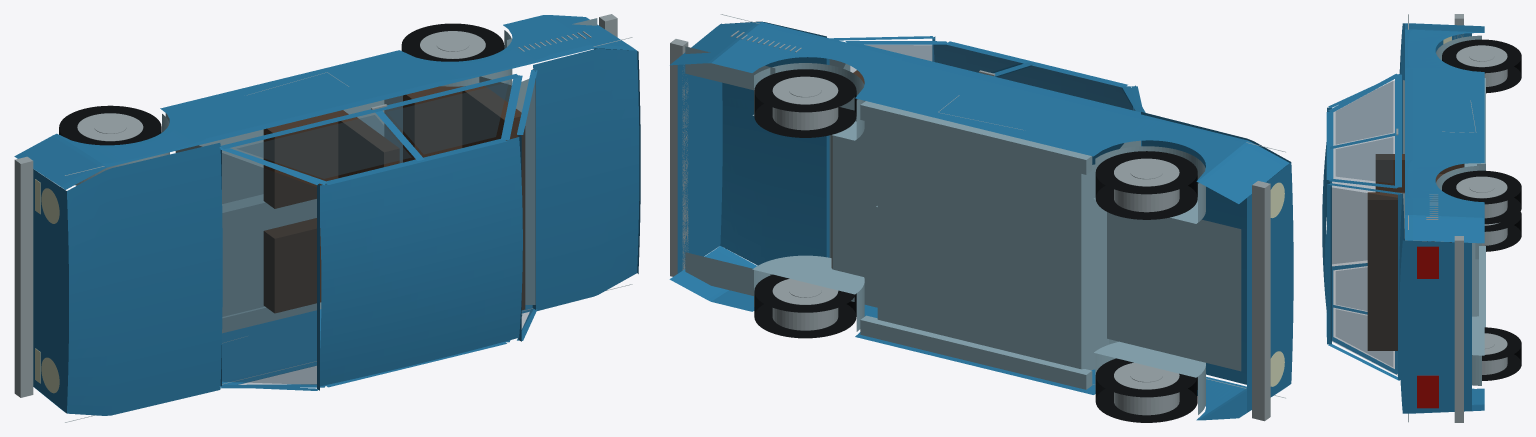
File: zaz-968m-reconstructed.obj
3 views of the same model, side by side, from view 1: azimuth 30°, elevation 25°; view 2: azimuth 150°, elevation 25°; view 3: azimuth 270°, elevation 25° (orthographic). The views are drawn at different scales.
Parts seen in each view (by area): view 1: Крыша, Передний_капот, Крышка_моторного_отсека, Левая_боковина_и_арки, Лобовое_стекло, Передние_сиденья_—_приблизительные, Левая_боковое_стекло, Заднее_сиденье_—_приблизительное, Передняя_панель, Пол_салона, Бамперы,_ручки,_молдинги, Правая_боковина_и_арки (+13 smaller); view 2: Пол_салона, Левая_боковина_и_арки, Дно_переднего_отсека_—_гипотеза, Крышка_моторного_отсека, Колёса_—_неподвижный_визуальный_ориентир, Диски_—_условная_форма, Задняя_панель, Бамперы,_ручки,_молдинги, Подъём_пола_под_задним_сиденьем, Передняя_панель, Левая_порог, Правая_боковина_и_арки (+14 smaller); view 3: Левая_боковина_и_арки, Заднее_стекло, Задняя_панель, Лобовое_стекло, Колёса_—_неподвижный_визуальный_ориентир, Заднее_сиденье_—_приблизительное, Левая_боковое_стекло, Диски_—_условная_форма, Правая_боковое_стекло, Бамперы,_ручки,_молдинги, Левая_стойки_и_оконные_рамки, Заднее_стекло_рамка (+14 smaller).
Boxes of the visible parts, box(x1,y1,x2,y2) form: Крыша: box(320, 137, 522, 386); Передний_капот: box(67, 143, 222, 415); Крышка_моторного_отсека: box(533, 48, 639, 310); Левая_боковина_и_арки: box(14, 15, 636, 189); Лобовое_стекло: box(222, 153, 317, 384); Передние_сиденья_—_приблизительные: box(263, 110, 399, 313); Левая_боковое_стекло: box(237, 82, 508, 178); Заднее_сиденье_—_приблизительное: box(403, 86, 525, 309); Передняя_панель: box(33, 169, 68, 413); Пол_салона: box(199, 100, 384, 316); Бамперы,_ручки,_молдинги: box(14, 14, 632, 422); Правая_боковина_и_арки: box(35, 305, 532, 410); Пол_салона: box(877, 124, 1081, 368); Левая_боковина_и_арки: box(670, 22, 1289, 203); Дно_переднего_отсека_—_гипотеза: box(1107, 212, 1241, 371); Крышка_моторного_отсека: box(720, 21, 826, 265); Колёса_—_неподвижный_визуальный_ориентир: box(754, 69, 1197, 422); Диски_—_условная_форма: box(772, 76, 1179, 415); Задняя_панель: box(677, 23, 722, 273); Бамперы,_ручки,_молдинги: box(670, 14, 1285, 421); Подъём_пола_под_задним_сиденьем: box(832, 94, 877, 307); Передняя_панель: box(1247, 162, 1293, 412); Левая_порог: box(860, 101, 1092, 174); Правая_боковина_и_арки: box(669, 246, 1288, 420); Левая_боковина_и_арки: box(1405, 23, 1484, 243); Заднее_стекло: box(1331, 187, 1397, 375); Задняя_панель: box(1399, 240, 1471, 413); Лобовое_стекло: box(1332, 80, 1394, 263); Колёса_—_неподвижный_визуальный_ориентир: box(1442, 39, 1521, 380); Заднее_сиденье_—_приблизительное: box(1367, 174, 1451, 350); Левая_боковое_стекло: box(1336, 80, 1392, 183); Диски_—_условная_форма: box(1456, 45, 1507, 374); Правая_боковое_стекло: box(1336, 267, 1392, 366); Бамперы,_ручки,_молдинги: box(1396, 14, 1476, 422); Левая_стойки_и_оконные_рамки: box(1326, 73, 1401, 188); Заднее_стекло_рамка: box(1327, 183, 1402, 380).
Size of the model in its own units: 3765 by 1490 by 1400.
